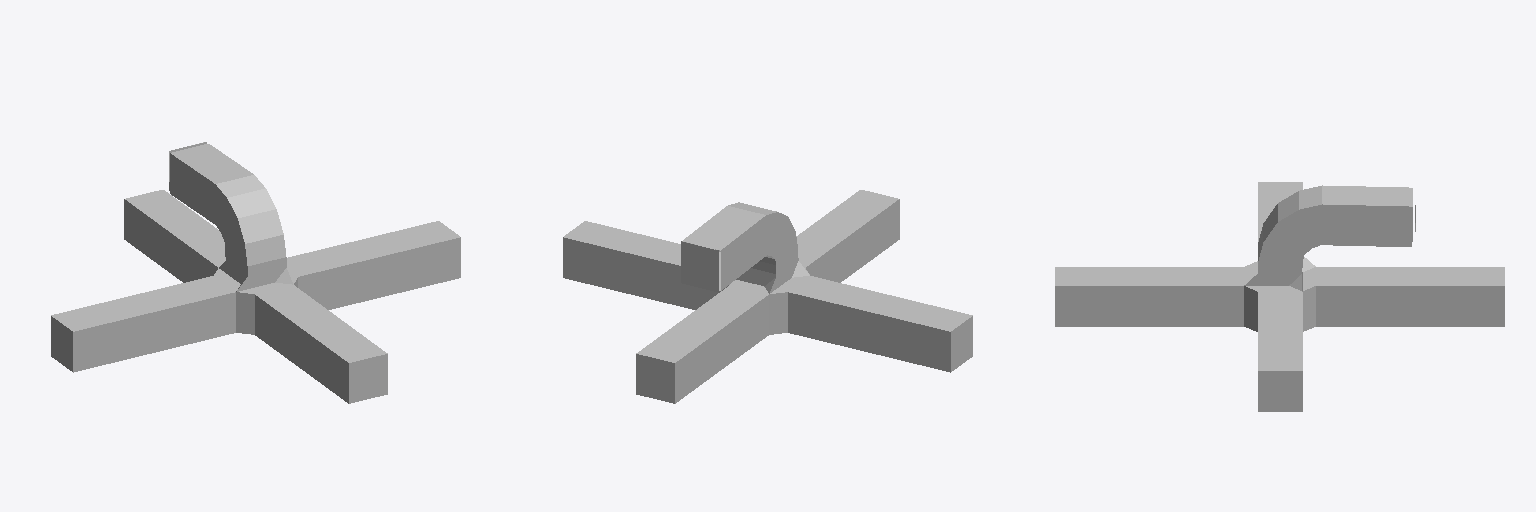
Rendered from tutorial_lvl_3.obj.
3 renders of one model, left to right at view 1: azimuth 30°, elevation 25°; view 2: azimuth 150°, elevation 25°; view 3: azimuth 270°, elevation 25°, orthographic.
Parts seen in each view (by area): view 1: Cube; view 2: Cube; view 3: Cube.
Boxes of the visible parts, x1,y1,x2,y2 form: Cube: [51, 142, 460, 403]; Cube: [563, 190, 972, 403]; Cube: [1055, 182, 1504, 411].
Bounding box in the file's own units: 39.87 × 11.98 × 39.95.